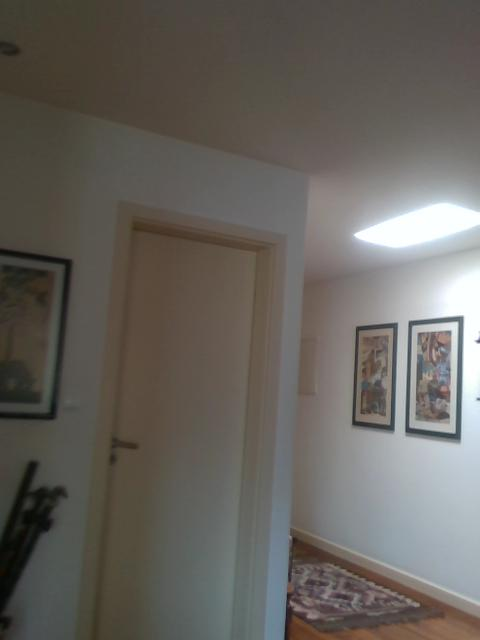door: (97, 224, 261, 640)
